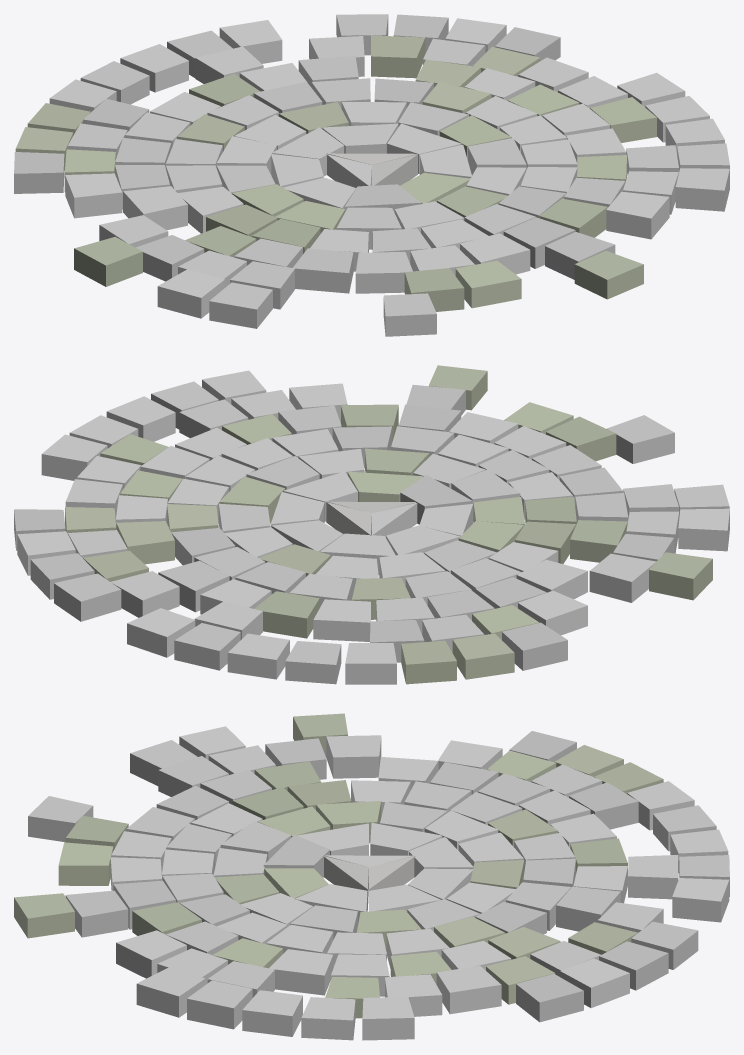
File: plaza.glb
The picture shows the model from 3 angles, top to bottom: view 1: azimuth 30°, elevation 25°; view 2: azimuth 150°, elevation 25°; view 3: azimuth 270°, elevation 25°; orthographic projection.
Parts seen in each view (by area): view 1: Plaza; view 2: Plaza; view 3: Plaza.
Boxes of the visible parts, x1,y1,x2,y2 form: Plaza: [14, 14, 729, 336]; Plaza: [14, 365, 729, 684]; Plaza: [14, 713, 729, 1040].
Bounding box in the file's own units: 19.02 × 0.6295 × 18.84.
